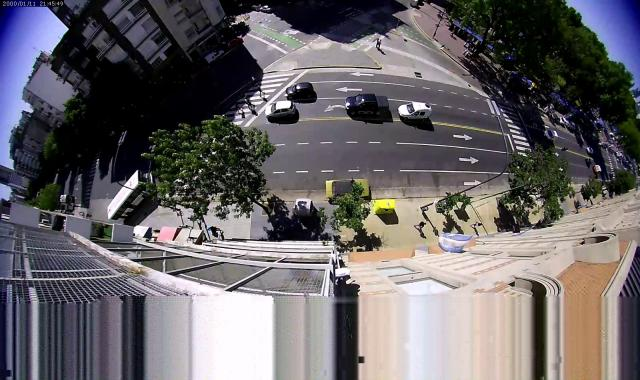bus: (106, 170, 154, 221), (60, 194, 73, 204)
car: (345, 93, 389, 116), (326, 179, 370, 198), (398, 102, 432, 122), (266, 100, 296, 120), (286, 82, 314, 99), (205, 50, 224, 64), (227, 37, 241, 49), (566, 121, 576, 130), (592, 165, 602, 173), (550, 114, 560, 122), (260, 6, 273, 12), (559, 117, 567, 126), (584, 158, 592, 165), (586, 147, 594, 154)
